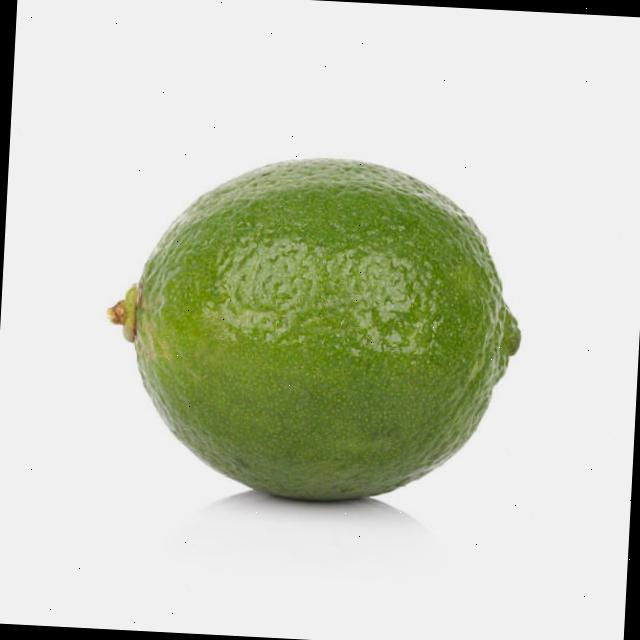Unripe: (122, 144, 530, 513)
